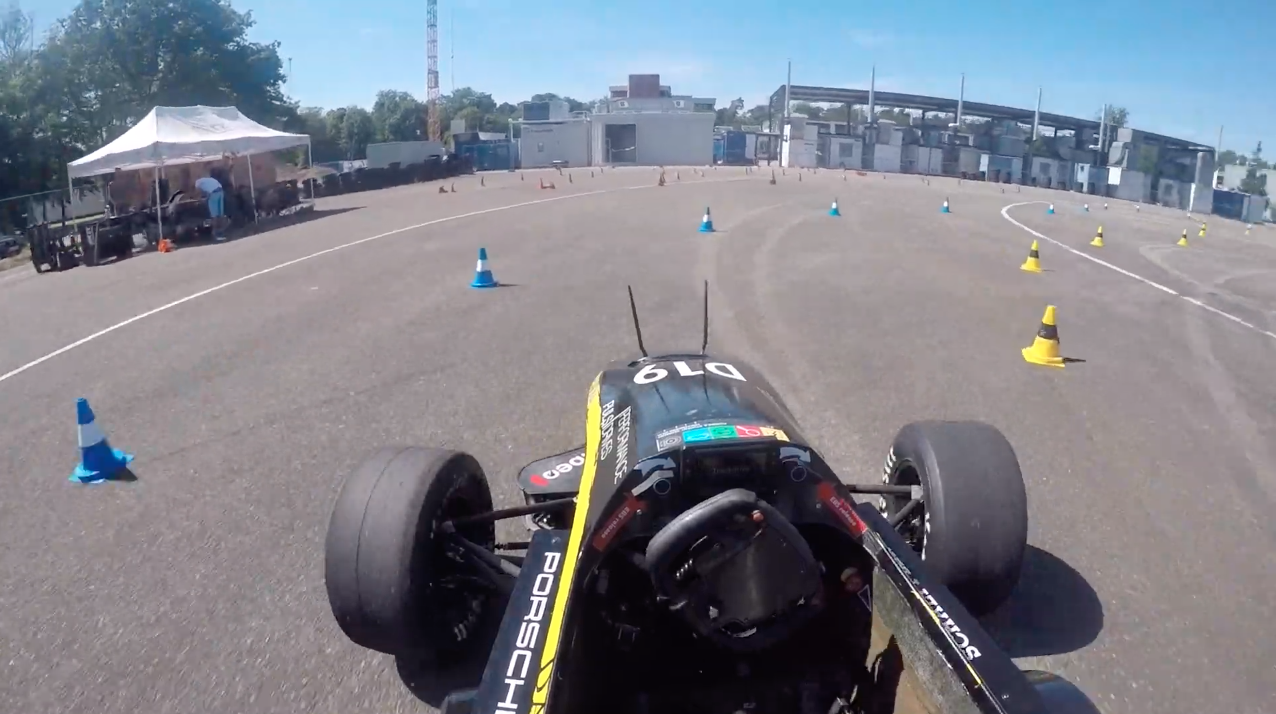lcone: (63, 396, 137, 488), (461, 241, 506, 293), (695, 205, 720, 234)
rcone: (1016, 301, 1071, 371), (1017, 238, 1048, 276)
